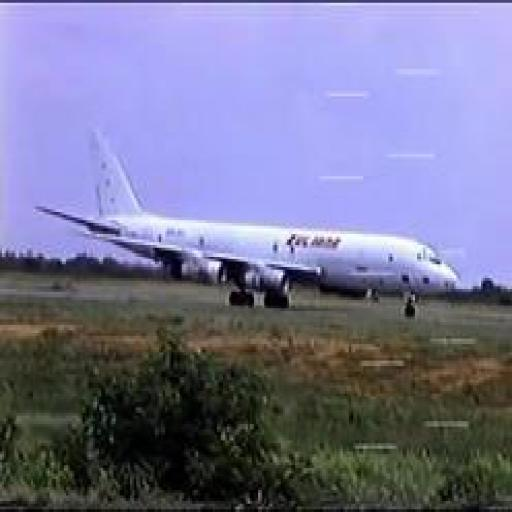aircraft: (33, 127, 460, 319)
